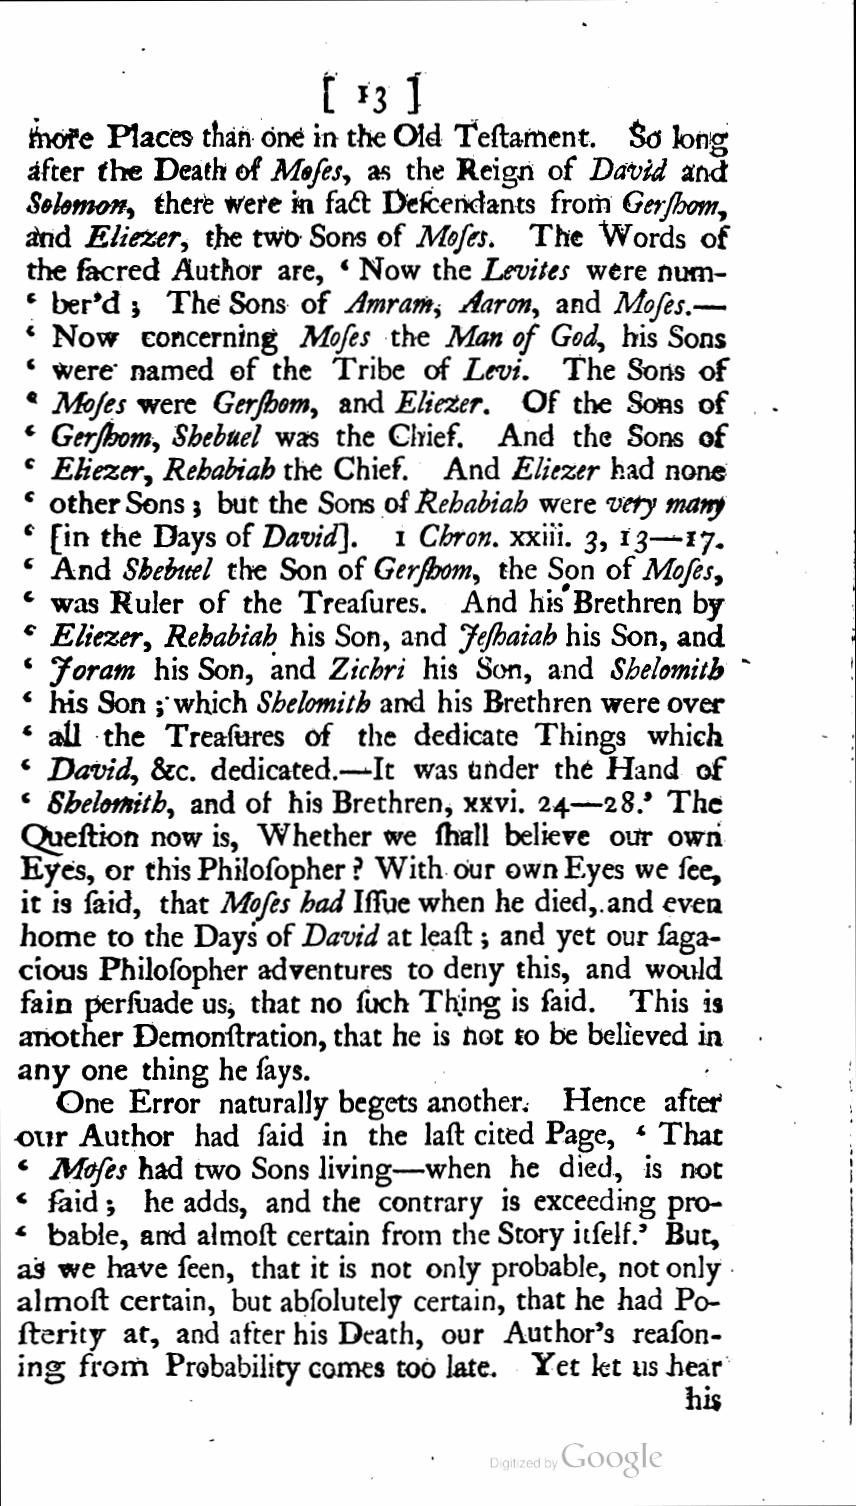bottom_p: (17, 114, 728, 1086)
catchword: (680, 1381, 722, 1415)
page_num: (350, 77, 394, 114)
top_p: (10, 1087, 728, 1380)
